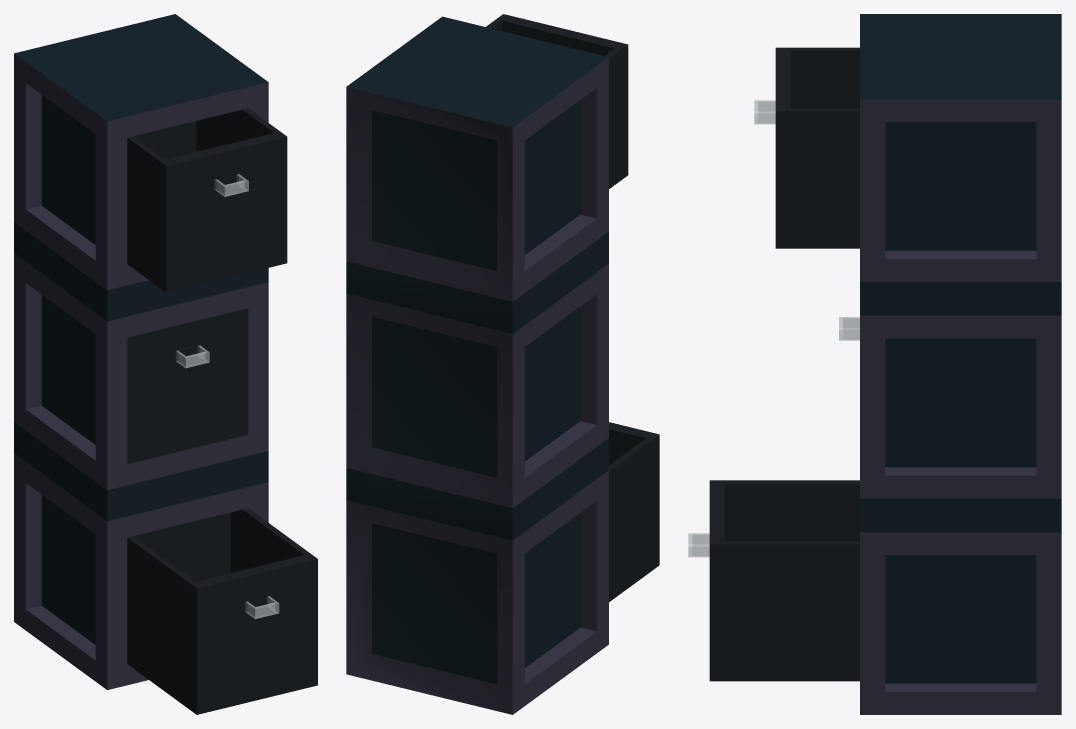
The model's file is Cabinet.fbx.
3 views of the same model, side by side, from view 1: azimuth 30°, elevation 25°; view 2: azimuth 150°, elevation 25°; view 3: azimuth 270°, elevation 25° (orthographic). The views are drawn at different scales.
Visible parts, largest first — view 1: pCube7; view 2: pCube7; view 3: pCube7.
Part boxes in pixels (x1,y1,x2,y2): pCube7: (14,14,317,714); pCube7: (346,14,659,714); pCube7: (688,14,1061,714).
Bounding box in the file's own units: 5.07 × 17.07 × 9.38.
